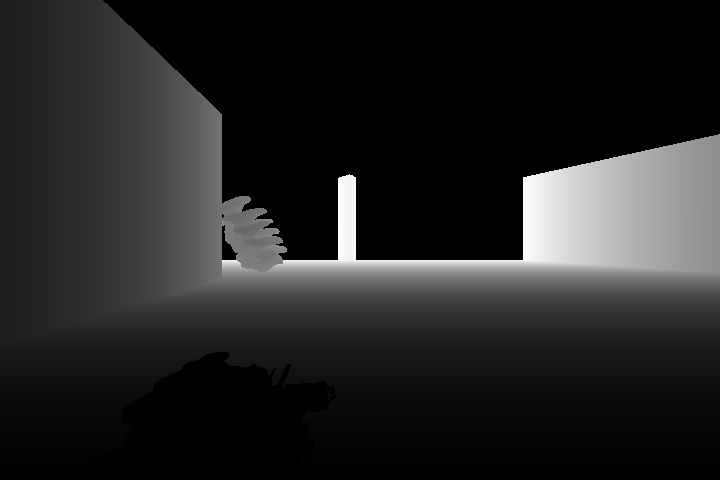glacier: (214, 194, 290, 274)
